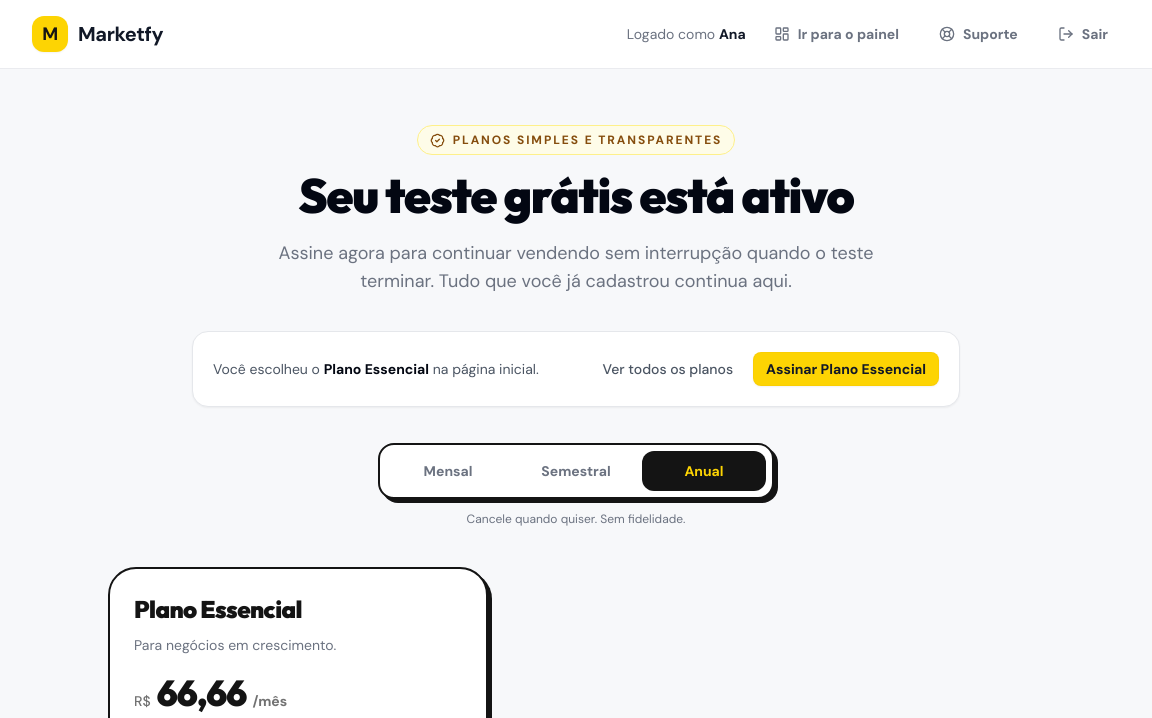
Scenario: Plans › resumes the plan chosen on the landing with its billing cycle
Expected: the text "Você escolheu o Plano Essencial na página inicial." is shown, left=213, top=359, right=539, bottom=379
Click the button "Assinar Plano Essencial" at (846, 369), box left=753, top=352, right=939, bottom=386
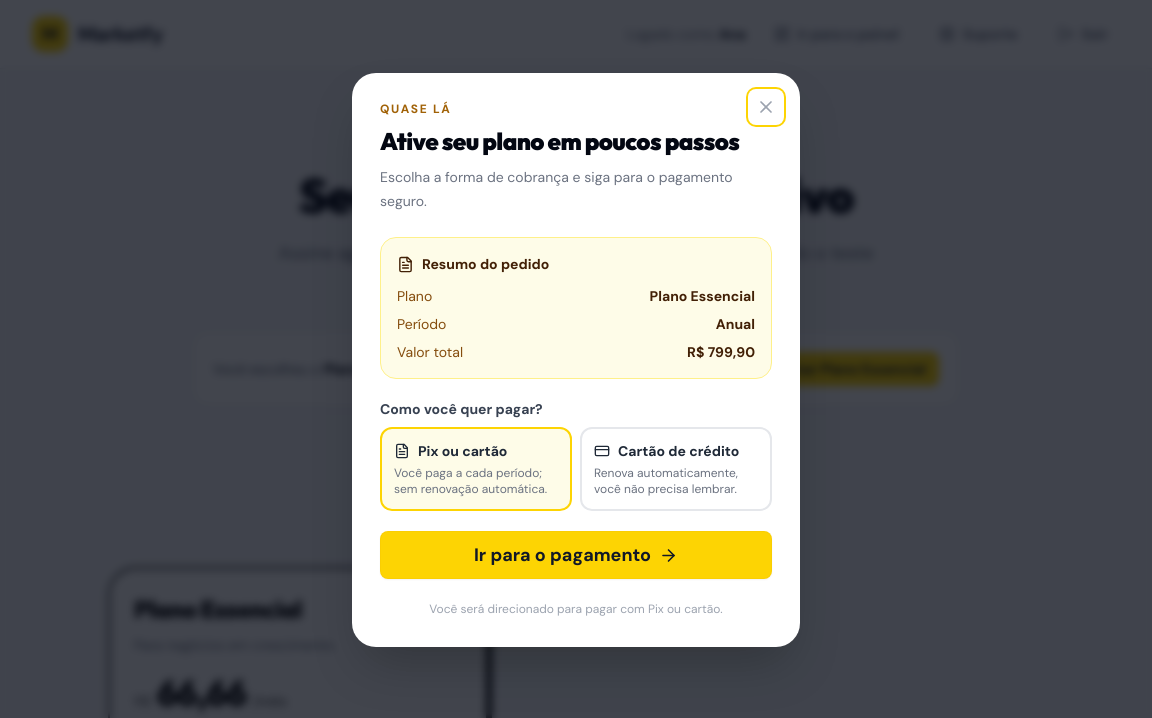
Now the text "Anual" is shown, box left=716, top=314, right=755, bottom=334
